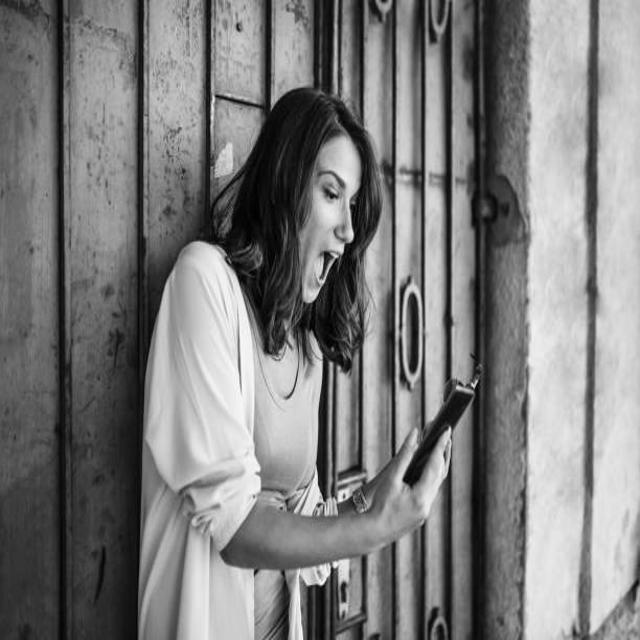Surprised: (305, 141, 360, 298)
